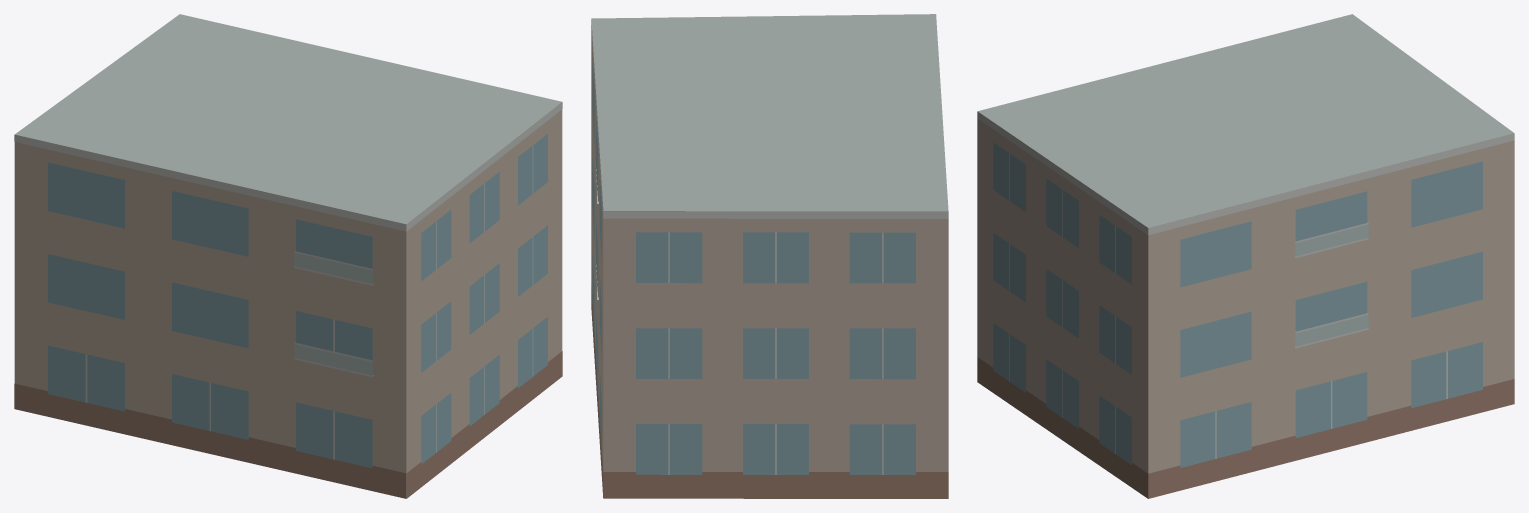
Rendered from survey-upis-32705842.glb.
3 views of the same model, side by side, from view 1: azimuth 30°, elevation 25°; view 2: azimuth 150°, elevation 25°; view 3: azimuth 270°, elevation 25° (orthographic). The views are drawn at different scales.
Parts seen in each view (by area): view 1: survey-upis-32705842.tmp; view 2: survey-upis-32705842.tmp; view 3: survey-upis-32705842.tmp.
Part boxes in pixels (bbox=[...]): survey-upis-32705842.tmp: bbox=[14, 14, 562, 498]; survey-upis-32705842.tmp: bbox=[591, 14, 948, 498]; survey-upis-32705842.tmp: bbox=[977, 14, 1514, 498].
Size of the model in its own units: 15.51 by 9.15 by 16.45.
